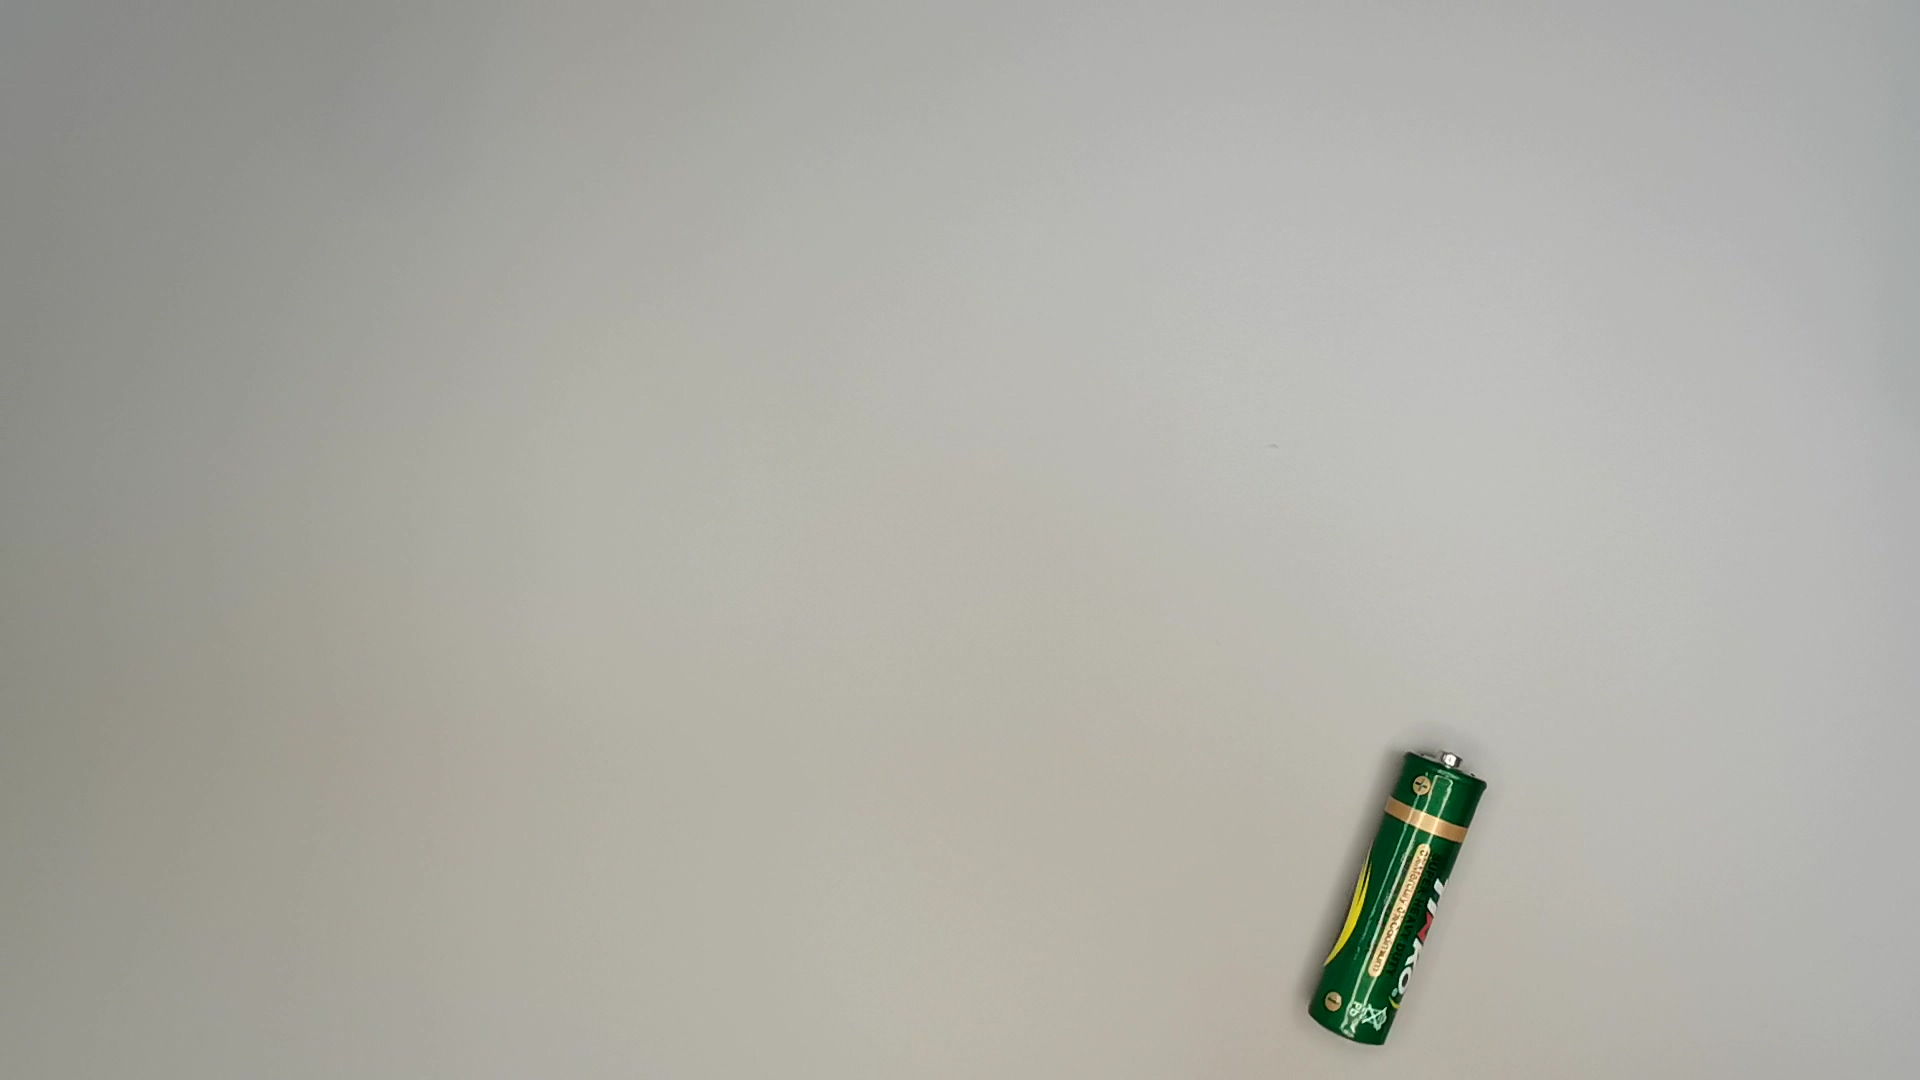battery: (1299, 742, 1501, 1060)
